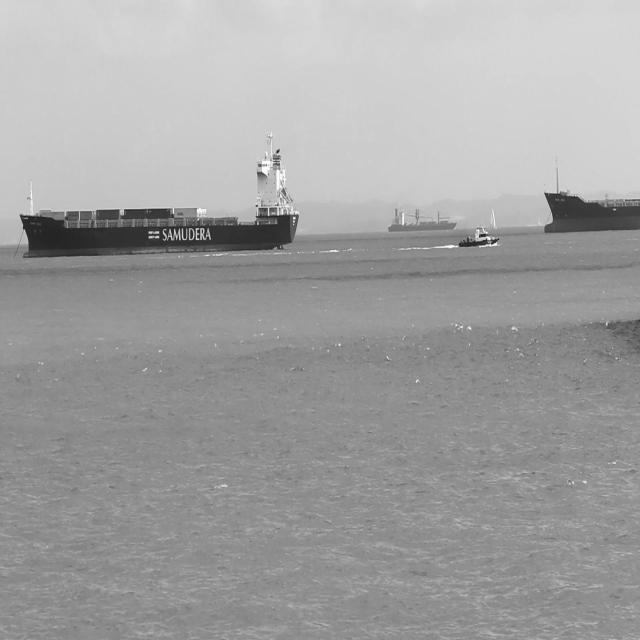boat: (489, 208, 497, 231)
ship: (19, 129, 299, 259), (544, 158, 639, 234), (387, 206, 458, 233), (457, 228, 500, 250), (477, 224, 486, 231)
